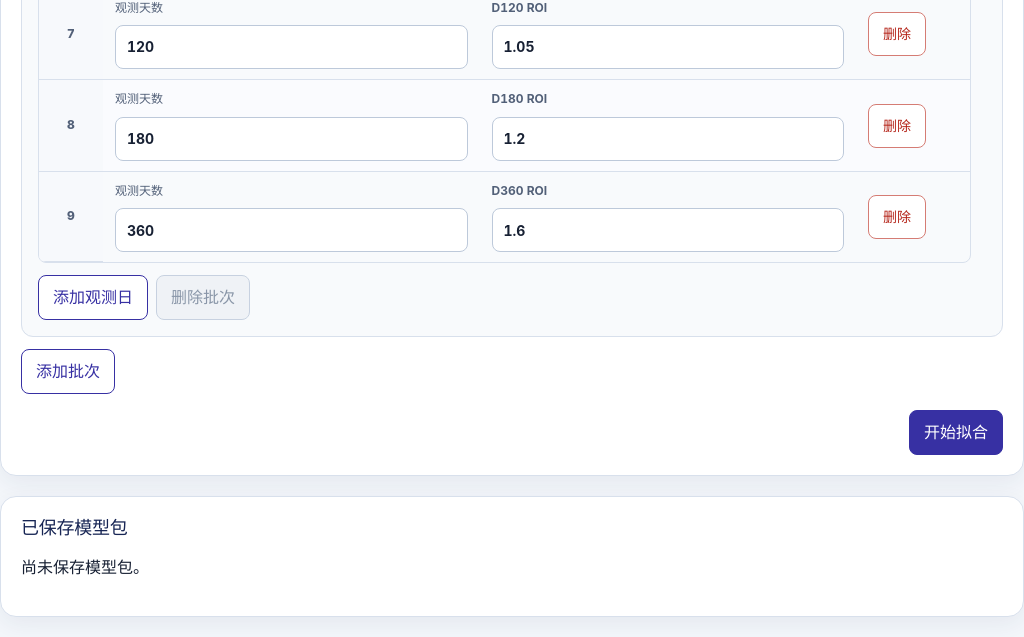
Test case: fit workspace › restores the saved observations and fit results when viewing a model package
(page scrolled)
Click the button "开始拟合". click: (956, 432)
box: [909,410,1003,455]
(page scrolled)
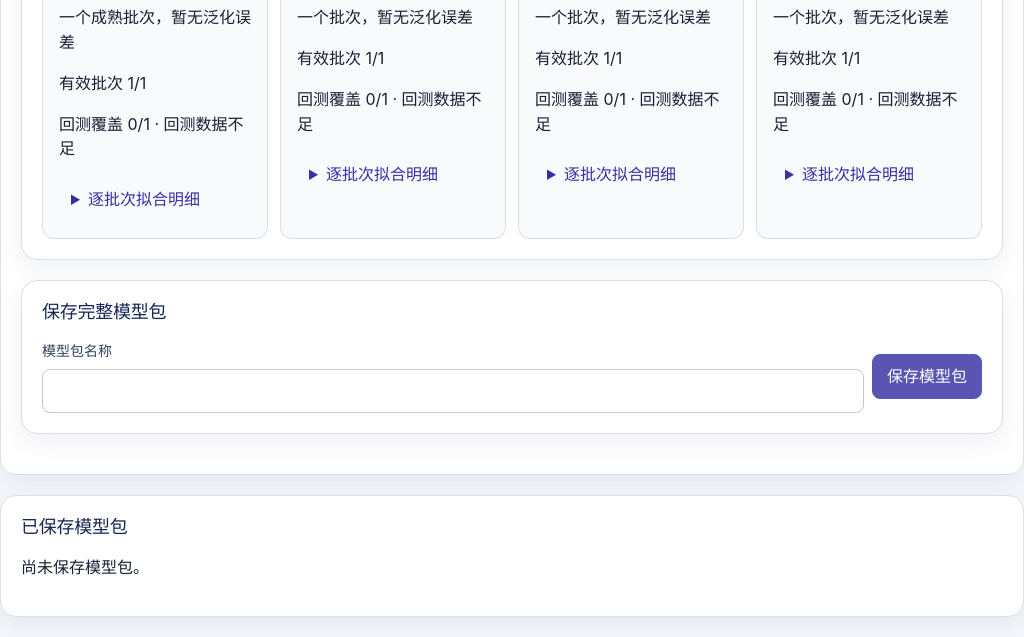
Type "渠道历史模型" into the field labelled "模型包名称". click: (453, 391)
box: [42,369,864,413]
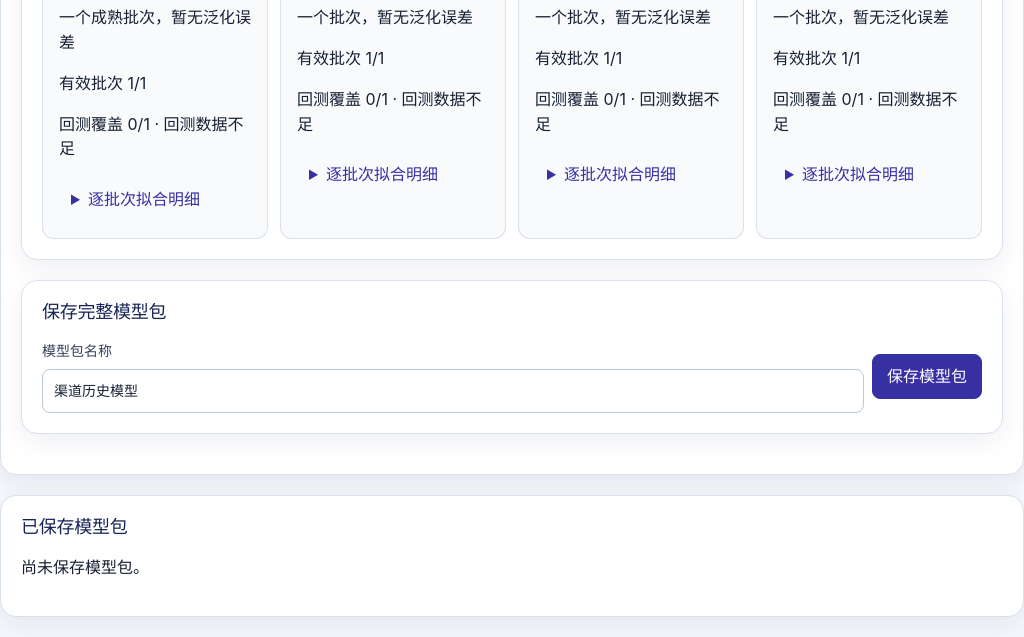
Click the button "保存模型包". click: (927, 376)
box: [872,354,982,399]
(page scrolled)
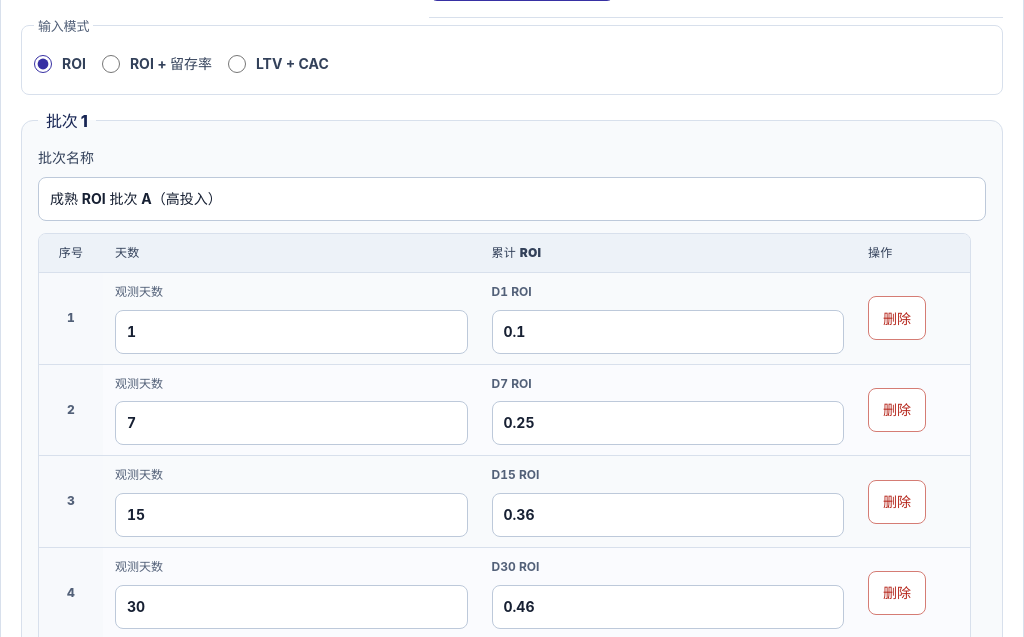
Replace the text in the field labelled "批次名称" with "未保存的新输入". click: (512, 198)
box: [38,176,986,220]
(page scrolled)
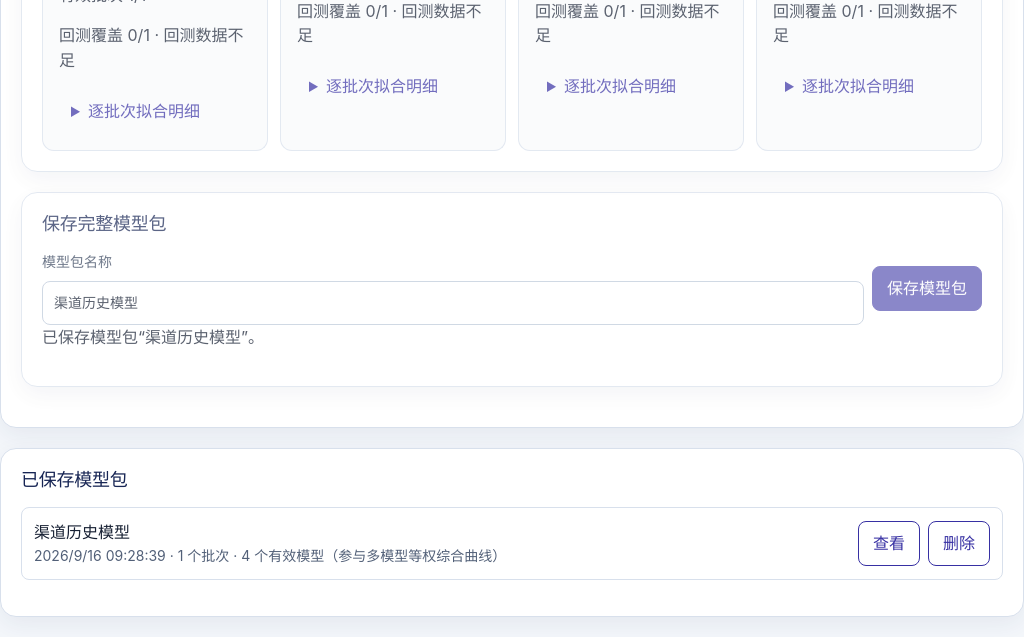
Click the button with aria-label "查看模型包 渠道历史模型". click: (889, 544)
box: [858,521,920,566]
(page scrolled)
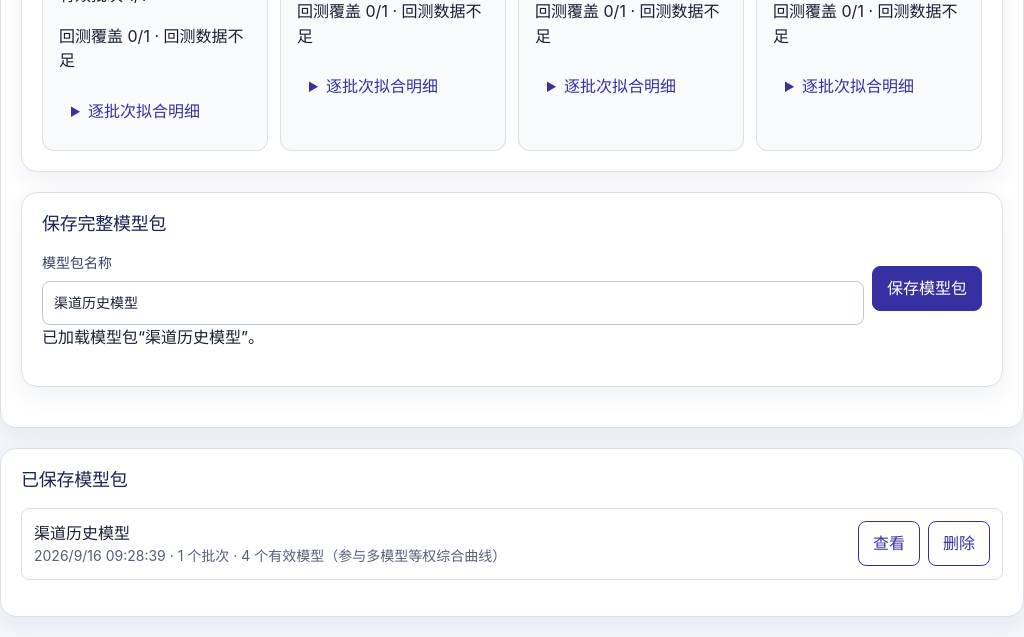
Expected: the message shows "已加载模型包“渠道历史模型”", [42,327,264,347]
